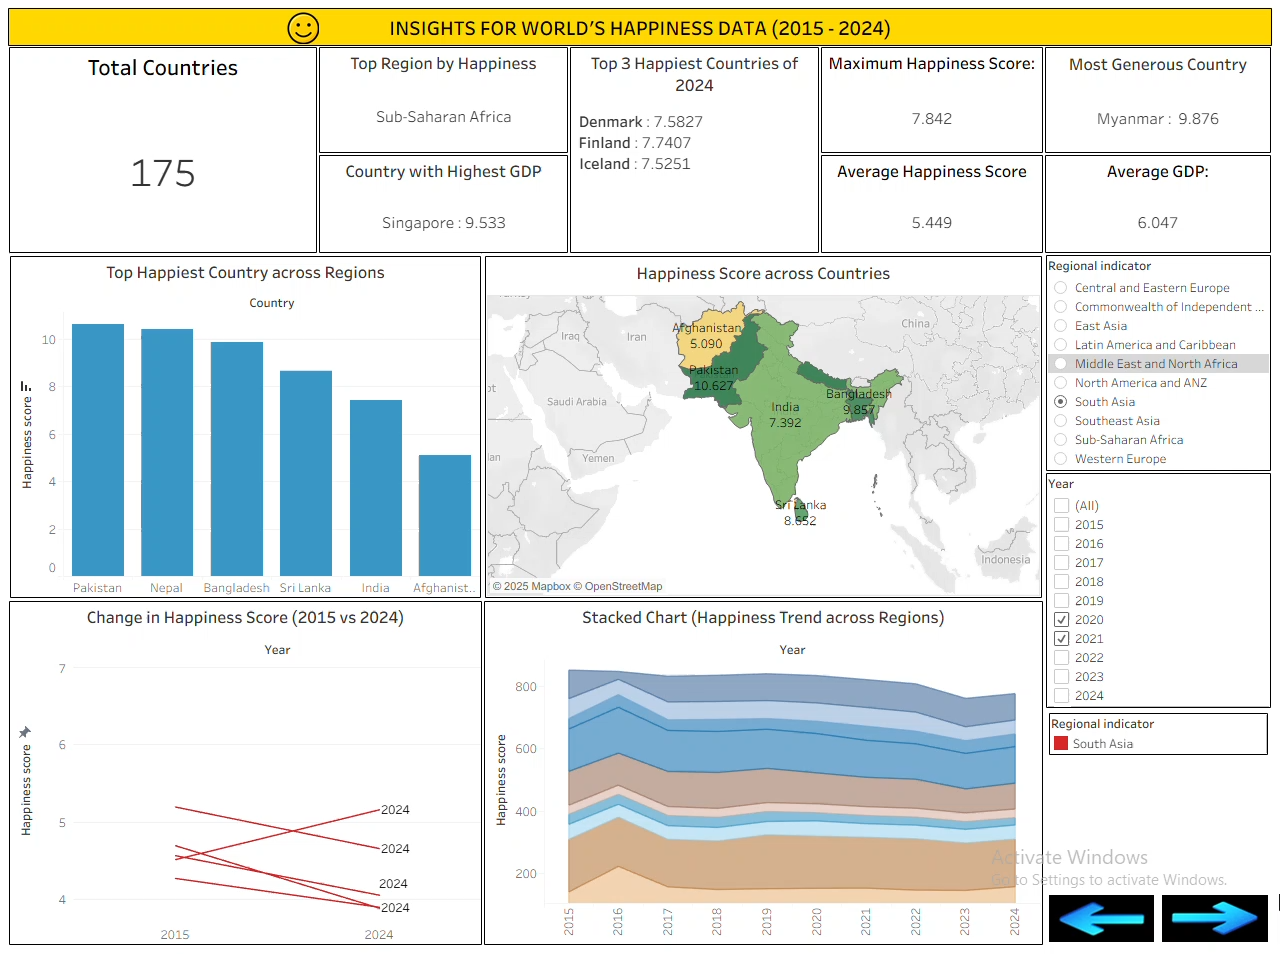

The page's visual inventory and layout, read from the dashboard file:
{"tool":"tableau","page":{"name":"Dashboard 1","canvas":[1000,1000],"units":"permille","ordinal":0},"visuals":[{"type":"text","box":[7.5,10,985,39.9]},{"type":"image","param":"Image/happiness.png","box":[223.6,12.5,27.1,33.8]},{"type":"image","param":"Image/happiness 1.png","box":[749.3,12.5,27.1,33.8]},{"type":"worksheet","title":"Total Countries","mark":"Automatic","box":[7.5,49.9,241.5,216.9]},{"type":"worksheet","title":"Top Region by Happiness","mark":"Automatic","box":[249,49.9,195.5,112.8]},{"type":"worksheet","title":"Top 3 Happiest Countries of 2024","mark":"Text","box":[444.5,49.9,195.5,216.9]},{"type":"worksheet","title":"Maximum Happiness Score","mark":"Automatic","box":[640,49.9,174.9,112.8]},{"type":"worksheet","title":"Most Generous Country","mark":"Automatic","box":[814.9,49.9,177.6,112.8]},{"type":"worksheet","title":"Country with Highest GDP","mark":"Automatic","box":[249,162.8,195.5,104]},{"type":"worksheet","title":"Average Happiness Score","mark":"Automatic","box":[640,162.8,174.9,104]},{"type":"worksheet","title":"Average GDP","mark":"Automatic","box":[814.9,162.8,177.6,104]},{"type":"worksheet","title":"Top Happiest Country across Regions","mark":"Bar","rows":["Happiness score"],"cols":["Country"],"box":[7.5,266.8,370.4,361.5]},{"type":"worksheet","title":"Happiness Score across Countries","mark":"Automatic","box":[377.9,266.8,437.4,361.5]},{"type":"filter","title":"Top Happiest Country across Regions","param":"[federated.0bmoz6j1ncyzlt1dp10531xplwxu].[none:Regional indicator:nk]","box":[815.4,266.8,177.2,273.2]},{"type":"filter","title":"Top Happiest Country across Regions","param":"[federated.0bmoz6j1ncyzlt1dp10531xplwxu].[none:Year:ok]","box":[815.4,540,177.2,297]},{"type":"worksheet","title":"Change in Happiness Score (2015 vs 2024)","mark":"Line","rows":["Happiness score"],"cols":["Year"],"box":[7.5,628.3,370.4,361.7]},{"type":"worksheet","title":"Stacked Chart (Happiness Trend across Regions)","mark":"Area","rows":["Happiness score"],"cols":["Year"],"box":[377.9,628.3,437.4,361.7]},{"type":"legend","title":"Change in Happiness Score (2015 vs 2024)","param":"[federated.0bmoz6j1ncyzlt1dp10531xplwxu].[attr:Regional indicator:nk]","box":[815.4,837,177.2,62.7]},{"type":"dashboard-object","box":[815.4,932.1,88.5,57.8]},{"type":"dashboard-object","box":[903.9,932.1,88.6,57.8]}]}

Visuals, with their boxes on the dashboard's canvas, which has no fixed pixel size, in thousandths of its width and height (x1, y1, x2, y2). These are canvas units, not pixel positions in the 1280x954 screenshot, which may show the page scaled, cropped or inside an application window:
text: [8, 10, 992, 50]
image: [224, 12, 251, 46]
image: [749, 12, 776, 46]
"Total Countries" worksheet: [8, 50, 249, 267]
"Top Region by Happiness" worksheet: [249, 50, 444, 163]
"Top 3 Happiest Countries of 2024" worksheet (Text marks): [444, 50, 640, 267]
"Maximum Happiness Score" worksheet: [640, 50, 815, 163]
"Most Generous Country" worksheet: [815, 50, 992, 163]
"Country with Highest GDP" worksheet: [249, 163, 444, 267]
"Average Happiness Score" worksheet: [640, 163, 815, 267]
"Average GDP" worksheet: [815, 163, 992, 267]
"Top Happiest Country across Regions" worksheet (Bar marks): [8, 267, 378, 628]
"Happiness Score across Countries" worksheet: [378, 267, 815, 628]
"Top Happiest Country across Regions" filter: [815, 267, 993, 540]
"Top Happiest Country across Regions" filter: [815, 540, 993, 837]
"Change in Happiness Score (2015 vs 2024)" worksheet (Line marks): [8, 628, 378, 990]
"Stacked Chart (Happiness Trend across Regions)" worksheet (Area marks): [378, 628, 815, 990]
"Change in Happiness Score (2015 vs 2024)" legend: [815, 837, 993, 900]
dashboard-object: [815, 932, 904, 990]
dashboard-object: [904, 932, 992, 990]
